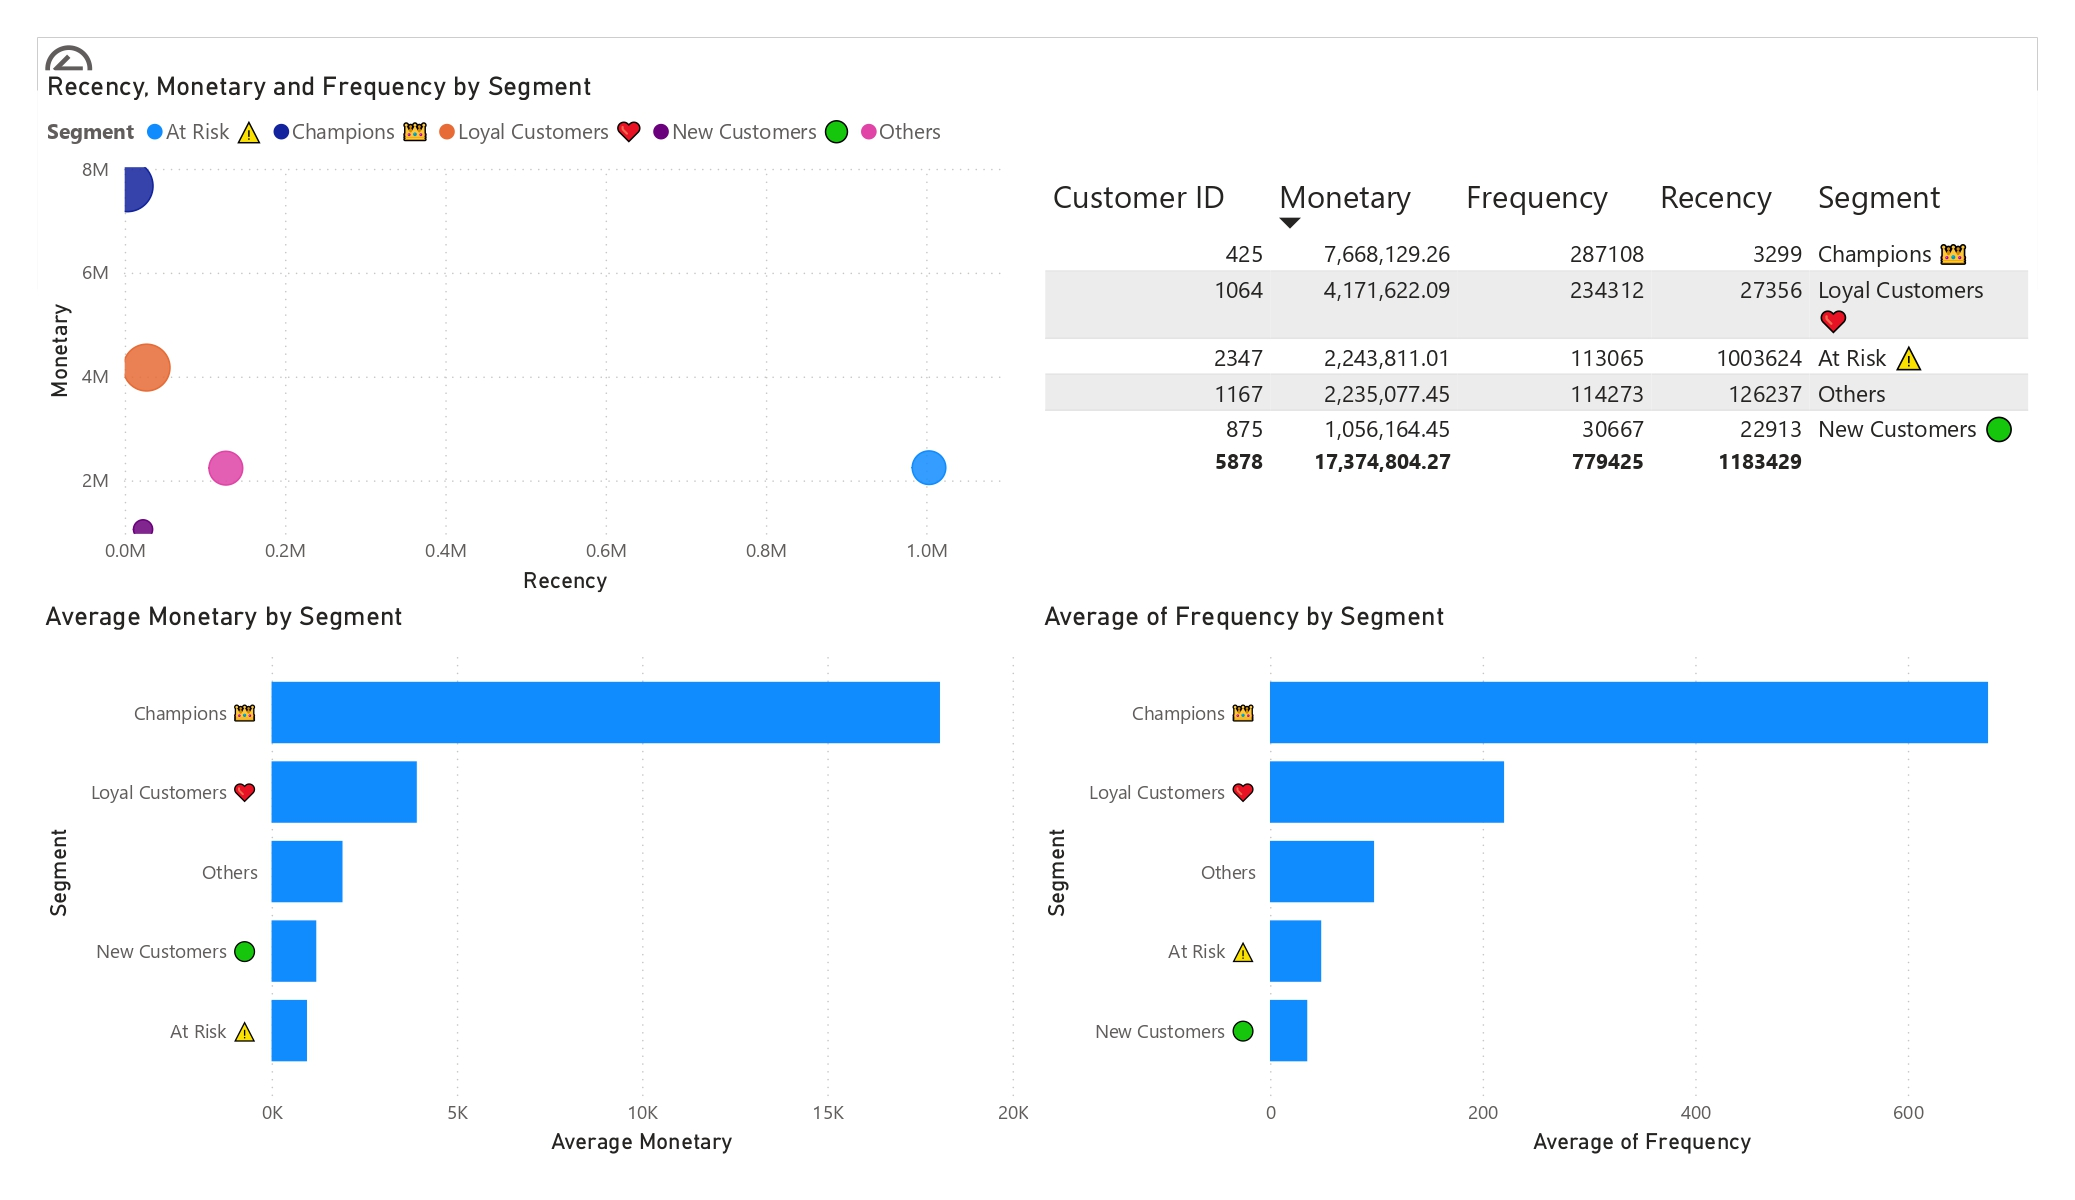

What the dashboard file says about the page in this screenshot:
{"tool":"powerbi","page":{"name":"Customer Behavior Analysis","canvas":[1280,720],"ordinal":1},"visuals":[{"type":"barChart","fields":{"Category":["rfm_segments.Segment"],"Y":["Avg(rfm_segments.Monetary)"]},"box":[0,359.5,639.4,360.7],"z":1000},{"type":"barChart","fields":{"Category":["rfm_segments.Segment"],"Y":["Avg(rfm_segments.Frequency)"]},"box":[639.4,359.5,640.6,360.7],"z":2000},{"type":"tableEx","fields":{"Values":["Count(rfm_segments.Customer ID)","Sum(rfm_segments.Monetary)","Sum(rfm_segments.Frequency)","Sum(rfm_segments.Recency)","rfm_segments.Segment"]},"box":[639.4,80.8,640.6,278.7],"z":3000},{"type":"actionButton","box":[0,0,100,40],"z":4000},{"type":"scatterChart","fields":{"X":["Sum(rfm_segments.Recency)"],"Y":["Sum(rfm_segments.Monetary)"],"Size":["Sum(rfm_segments.Frequency)"],"Series":["rfm_segments.Segment"]},"box":[1.2,20.5,638.2,339],"z":4001}]}

Visuals, with their boxes on the page's 1280x720 design canvas (x1, y1, x2, y2). These are canvas units, not pixel positions in the 2075x1200 screenshot, which may show the page scaled, cropped or inside an application window:
barChart - rfm_segments.Segment x Avg(rfm_segments.Monetary): x1=0 y1=360 x2=639 y2=720
barChart - rfm_segments.Segment x Avg(rfm_segments.Frequency): x1=639 y1=360 x2=1280 y2=720
tableEx - Count(rfm_segments.Customer ID) x Sum(rfm_segments.Monetary): x1=639 y1=81 x2=1280 y2=360
actionButton: x1=0 y1=0 x2=100 y2=40
scatterChart - Sum(rfm_segments.Recency) x Sum(rfm_segments.Monetary): x1=1 y1=20 x2=639 y2=360
